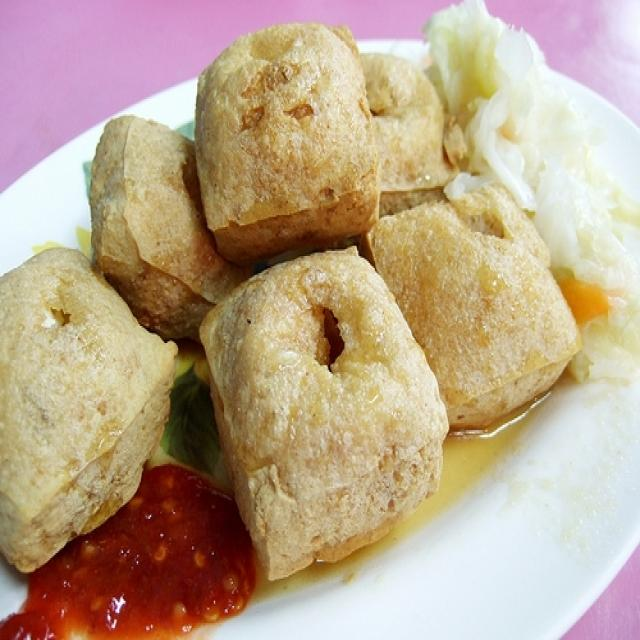豆腐料理: (8, 16, 612, 634)
